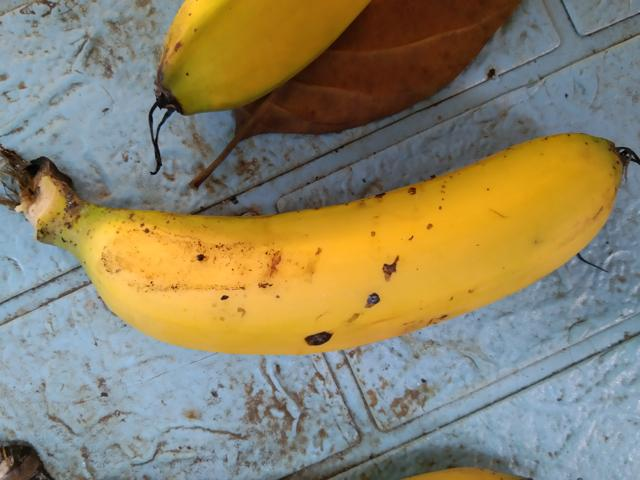ripe: (75, 119, 616, 407)
